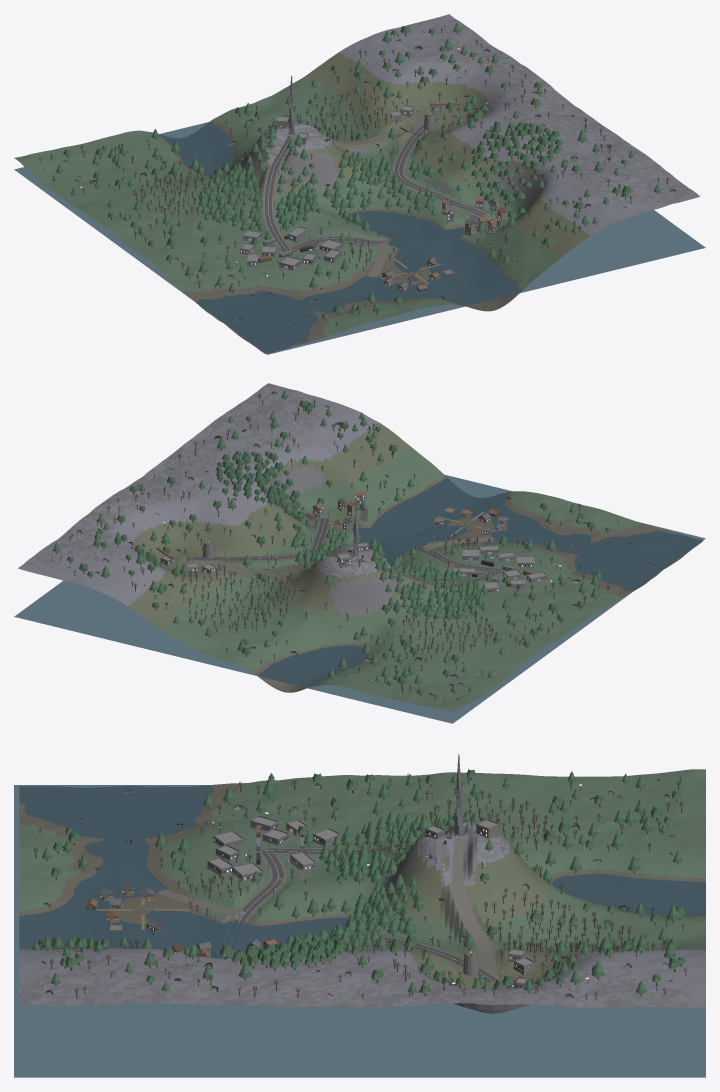
Rendered from night_map.glb.
3 renders of one model, top to bottom at view 1: azimuth 30°, elevation 25°; view 2: azimuth 150°, elevation 25°; view 3: azimuth 270°, elevation 25°, orthographic. The views are drawn at different scales.
Visible parts, largest first — view 1: Terrain_4, Water_5, Terrain_2, Terrain_0, Vegetation_66, Terrain_3, Terrain_1, Vegetation_65, Vegetation_64, Roads_52, Roads_54, Vegetation_67 (+2 smaller); view 2: Terrain_4, Water_5, Terrain_2, Terrain_0, Terrain_3, Terrain_1, Vegetation_66, Vegetation_65, Vegetation_64, Roads_54, Roads_52, POI_RailYard_6 (+1 smaller); view 3: Water_5, Terrain_4, Terrain_0, Terrain_2, Vegetation_66, Terrain_1, Terrain_3, Vegetation_64, Vegetation_65, Roads_54, Vegetation_67, Roads_52 (+7 smaller).
Boxes of the visible parts, bbox=[...] form: Terrain_4: bbox=[14, 77, 557, 336]; Water_5: bbox=[14, 122, 705, 354]; Terrain_2: bbox=[263, 14, 698, 235]; Terrain_0: bbox=[158, 120, 525, 353]; Vegetation_66: bbox=[53, 22, 659, 317]; Terrain_3: bbox=[241, 52, 589, 259]; Terrain_1: bbox=[241, 19, 699, 222]; Vegetation_65: bbox=[52, 28, 660, 325]; Vegetation_64: bbox=[39, 25, 668, 326]; Roads_52: bbox=[265, 118, 488, 273]; Roads_54: bbox=[263, 119, 487, 297]; Vegetation_67: bbox=[69, 28, 632, 318]; Terrain_4: bbox=[163, 447, 640, 711]; Water_5: bbox=[14, 474, 705, 723]; Terrain_2: bbox=[18, 383, 395, 606]; Terrain_0: bbox=[254, 474, 703, 692]; Terrain_3: bbox=[128, 422, 431, 630]; Terrain_1: bbox=[24, 383, 413, 618]; Vegetation_66: bbox=[54, 390, 610, 693]; Vegetation_65: bbox=[53, 395, 609, 694]; Vegetation_64: bbox=[51, 394, 618, 702]; Roads_54: bbox=[185, 518, 543, 587]; Roads_52: bbox=[186, 518, 502, 586]; POI_RailYard_6: bbox=[453, 546, 547, 592]; Water_5: bbox=[14, 785, 705, 1077]; Terrain_4: bbox=[19, 769, 705, 953]; Terrain_0: bbox=[19, 783, 705, 957]; Terrain_2: bbox=[19, 823, 705, 1008]; Vegetation_66: bbox=[33, 769, 685, 992]; Terrain_1: bbox=[19, 822, 691, 1008]; Terrain_3: bbox=[19, 826, 705, 988]; Vegetation_64: bbox=[34, 773, 687, 999]; Vegetation_65: bbox=[32, 778, 682, 993]; Roads_54: bbox=[119, 836, 500, 982]; Vegetation_67: bbox=[38, 773, 682, 993]; Roads_52: bbox=[141, 837, 496, 982].
Size of the model in its own units: 504 by 146 by 504.
